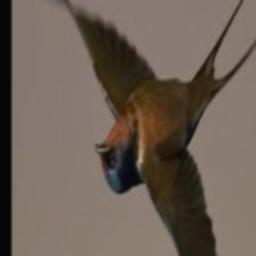Swallow: (29, 0, 256, 256)
